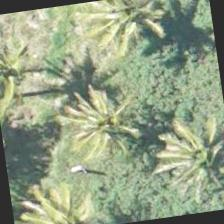Kelapa_Sawit: (50, 74, 152, 176), (159, 117, 223, 216), (0, 13, 54, 111), (19, 172, 117, 223)
